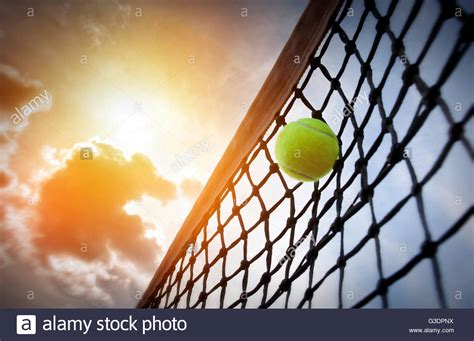tennis_ball: (274, 117, 339, 182)
